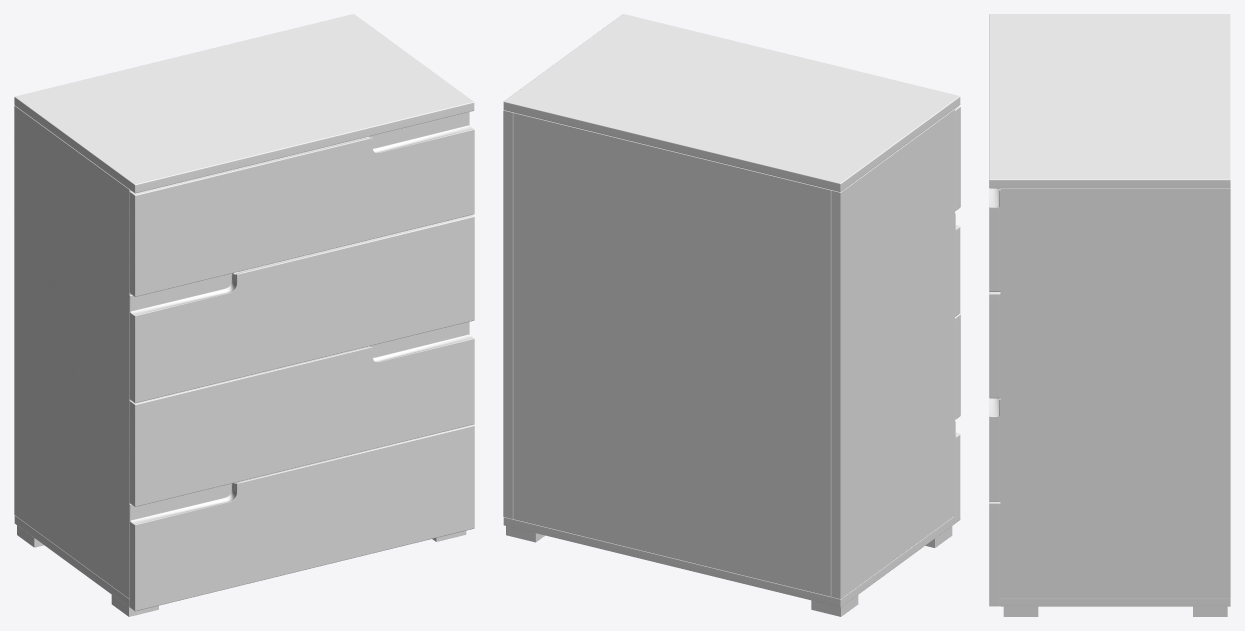
The model's file is abo-B07JWPM3HD.glb.
3 views of the same model, side by side, from view 1: azimuth 30°, elevation 25°; view 2: azimuth 150°, elevation 25°; view 3: azimuth 270°, elevation 25° (orthographic).
Size of the model in its own units: 0.65 by 0.8 by 0.4.
Materials: 1 (1 with a texture image).
